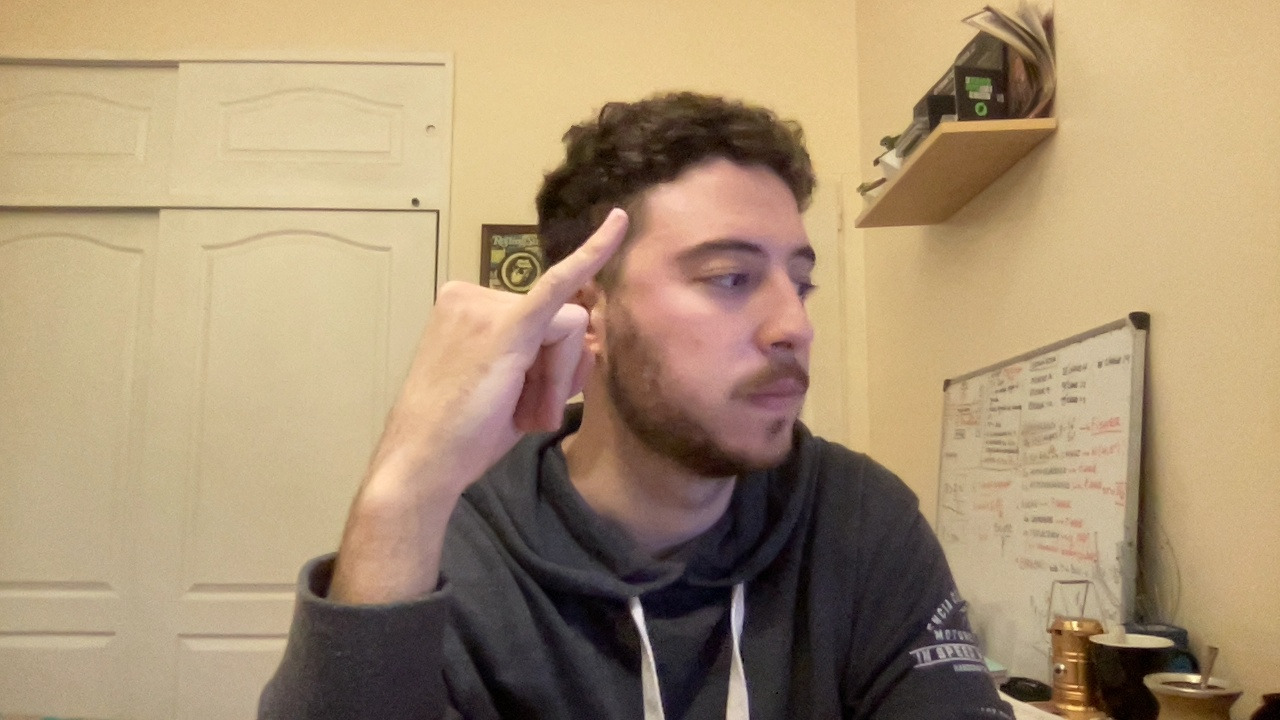menique: (350, 194, 652, 491)
